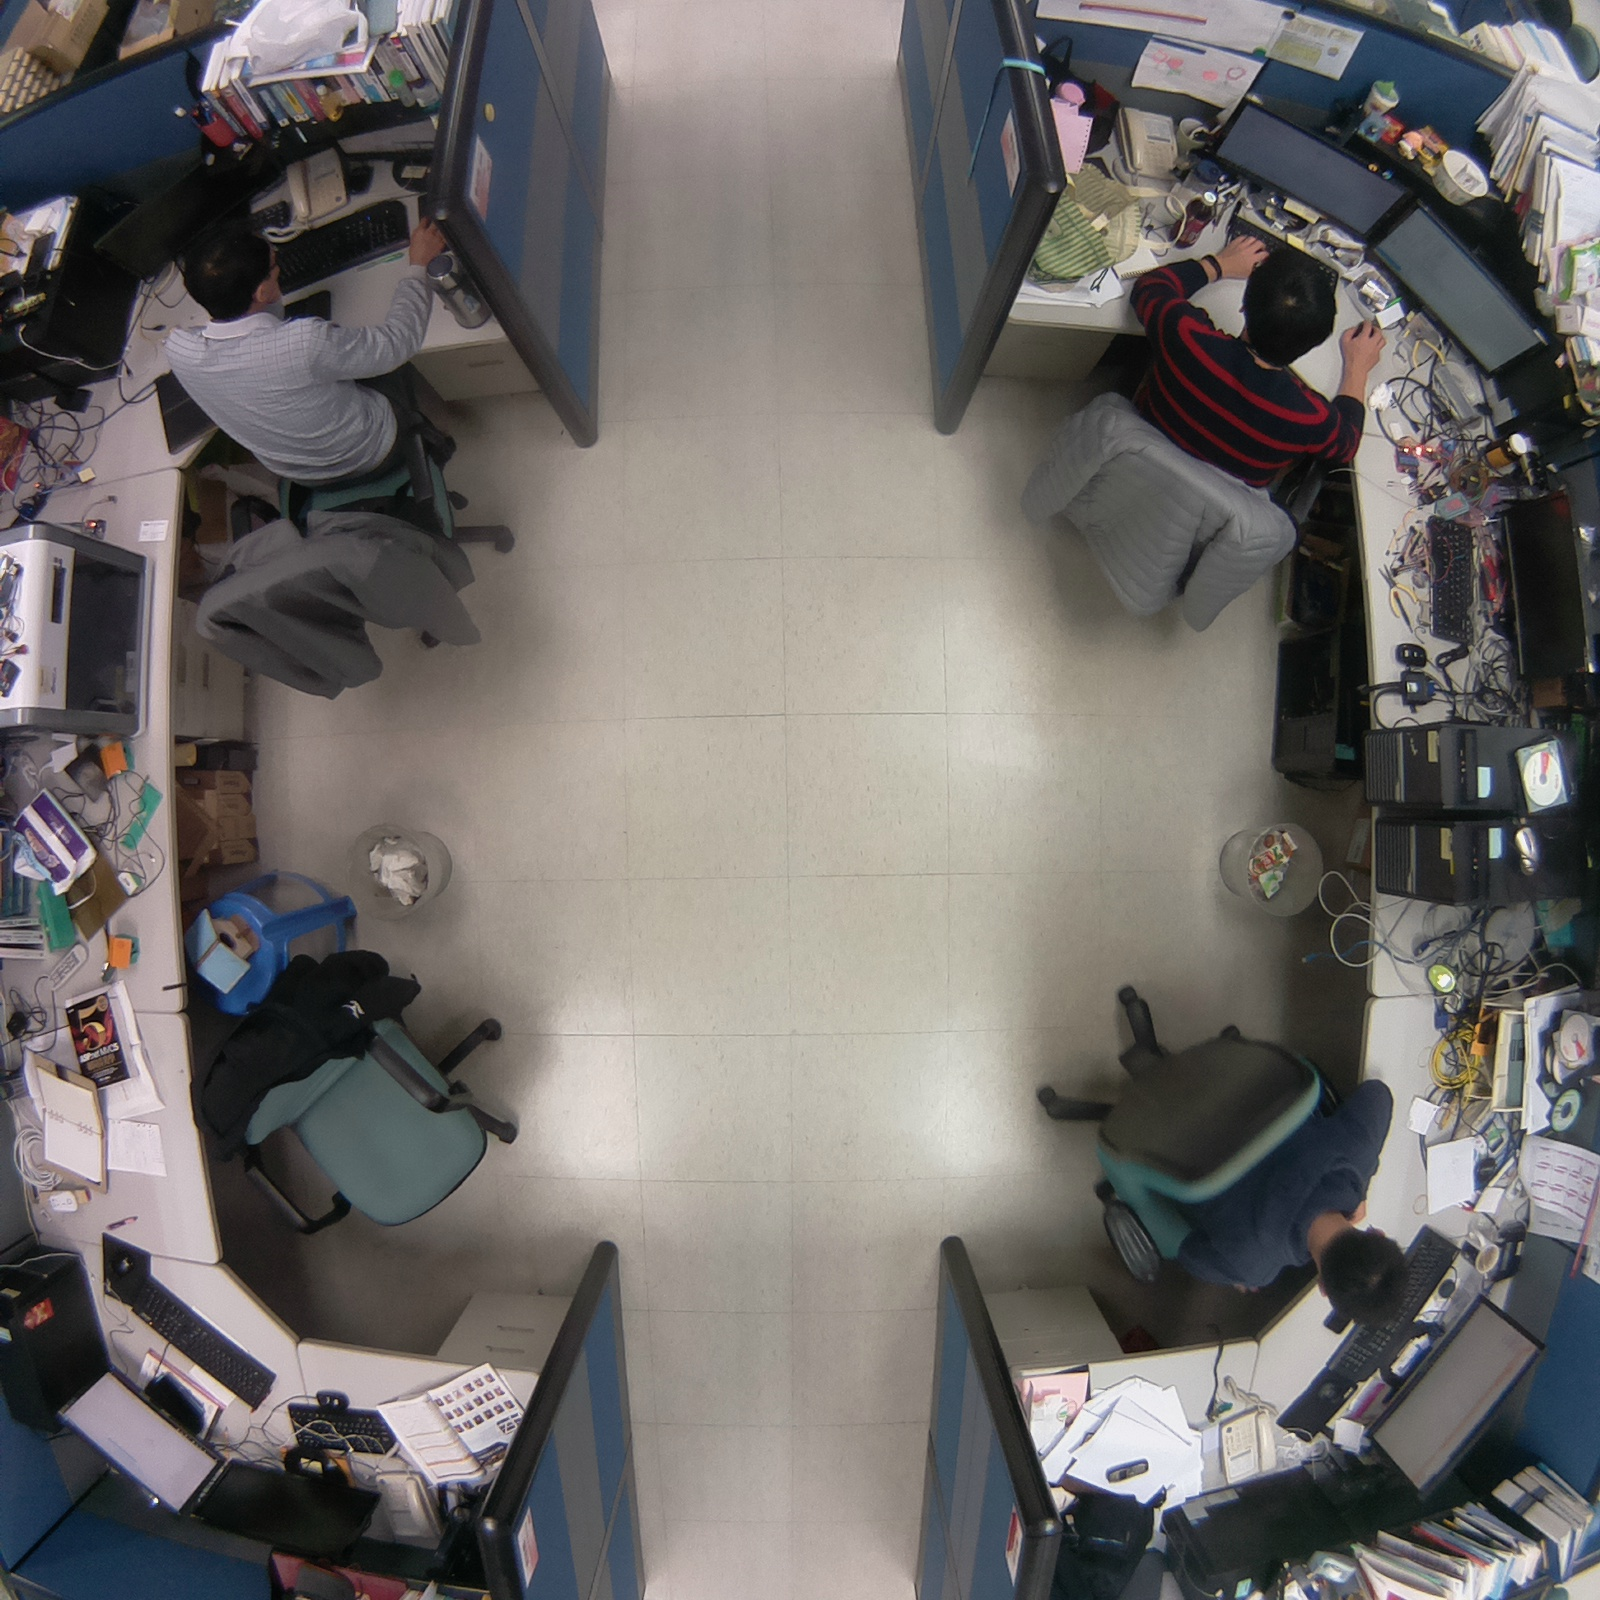chair: (182, 938, 547, 1248)
sitting: (148, 193, 544, 711), (1008, 220, 1399, 649), (1021, 968, 1440, 1351)
